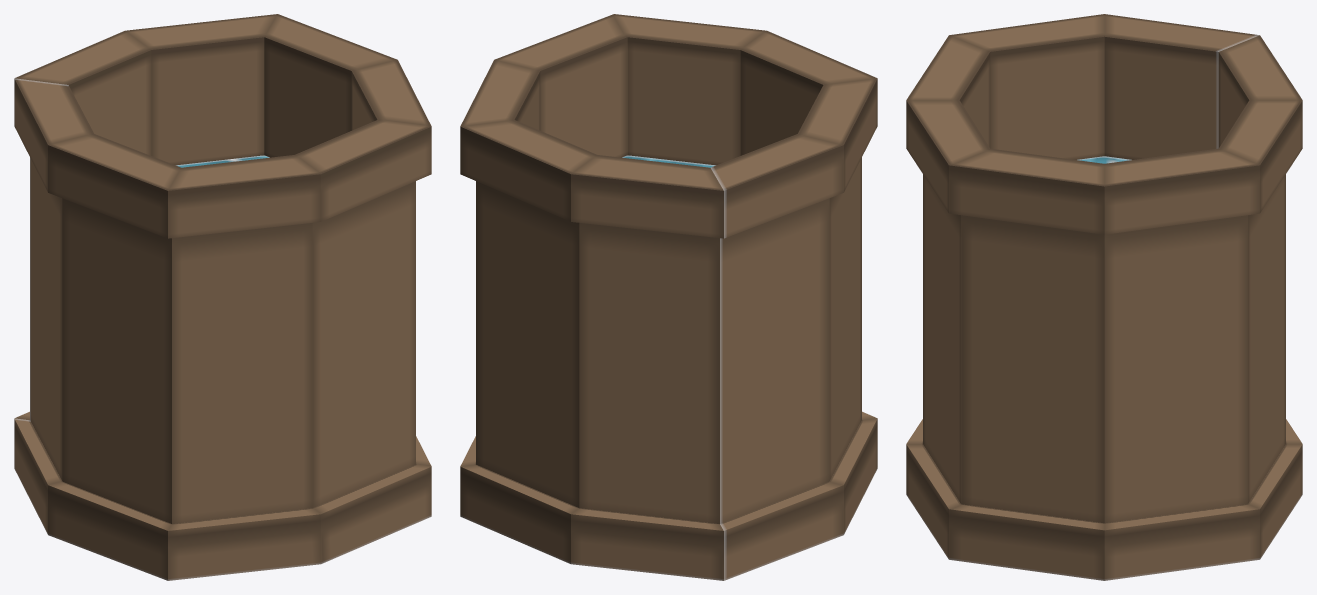
Rendered from Cubo02_Textured.fbx.
3 renders of one model, left to right at view 1: azimuth 30°, elevation 25°; view 2: azimuth 150°, elevation 25°; view 3: azimuth 270°, elevation 25°, orthographic.
Visible parts, largest first — view 1: Cubo02; view 2: Cubo02; view 3: Cubo02.
Boxes of the visible parts, left/top/right/bottom form: Cubo02: left=14, top=14, right=431, bottom=580; Cubo02: left=460, top=14, right=877, bottom=580; Cubo02: left=906, top=14, right=1302, bottom=580.
Size of the model in its own units: 304 by 324 by 295.
